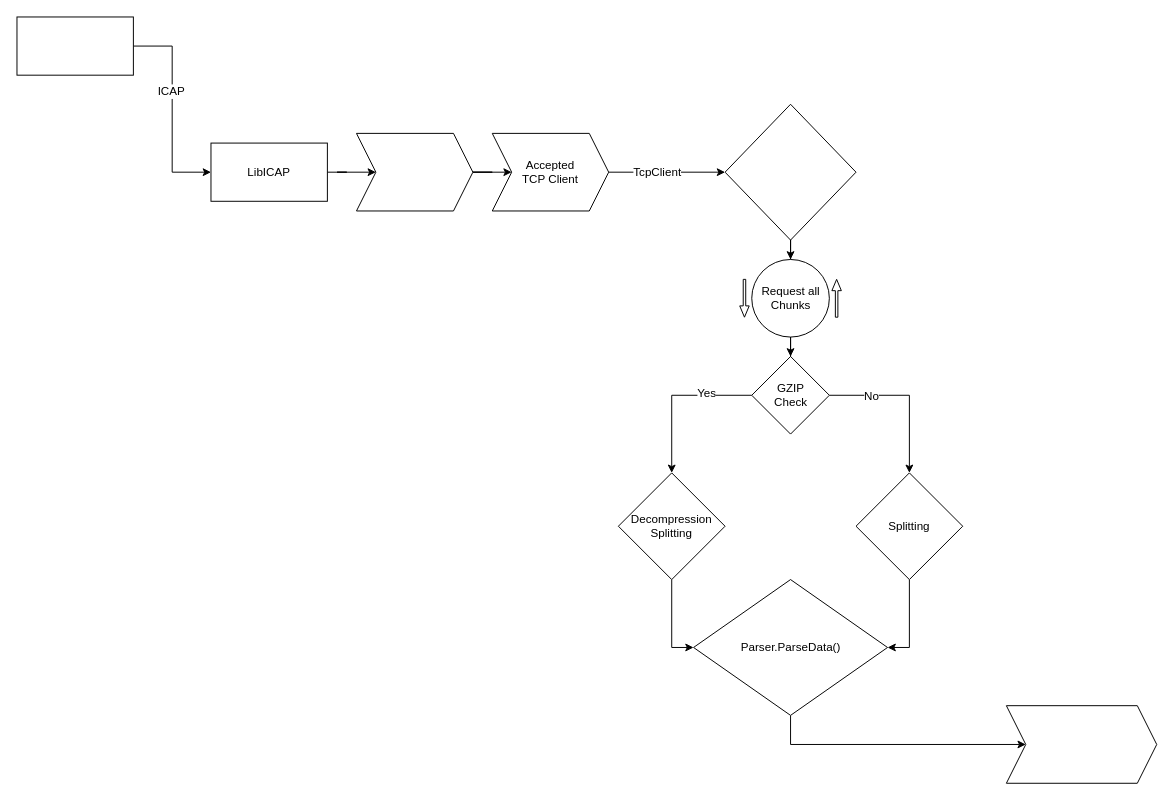
This 1174x800 diagram has some shape labels left out. Here are the shapes that lost their labels. From the top down, the centre of each, then its label:
point (74, 45): FortiGate
point (414, 171): TCP Server
point (790, 171): HandleClient(obj)
point (1081, 744): stream.Write req.Response
